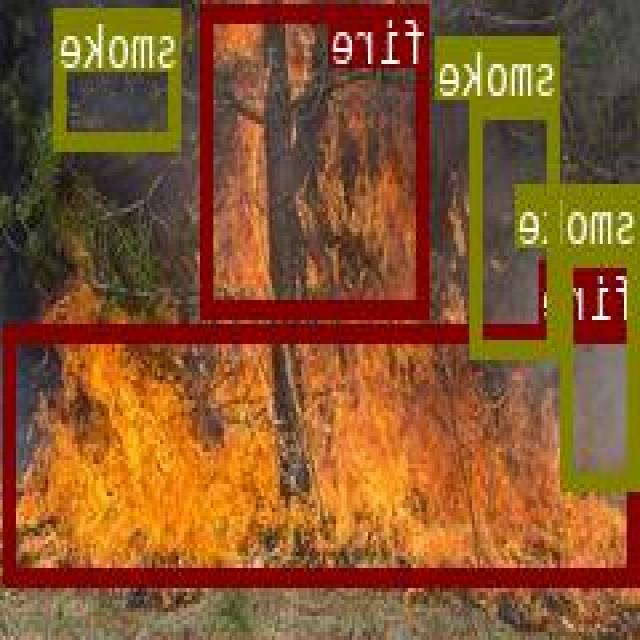fire: (8, 320, 640, 580), (204, 1, 430, 313)
smoke: (474, 97, 560, 354), (563, 246, 640, 486), (58, 6, 184, 146)
